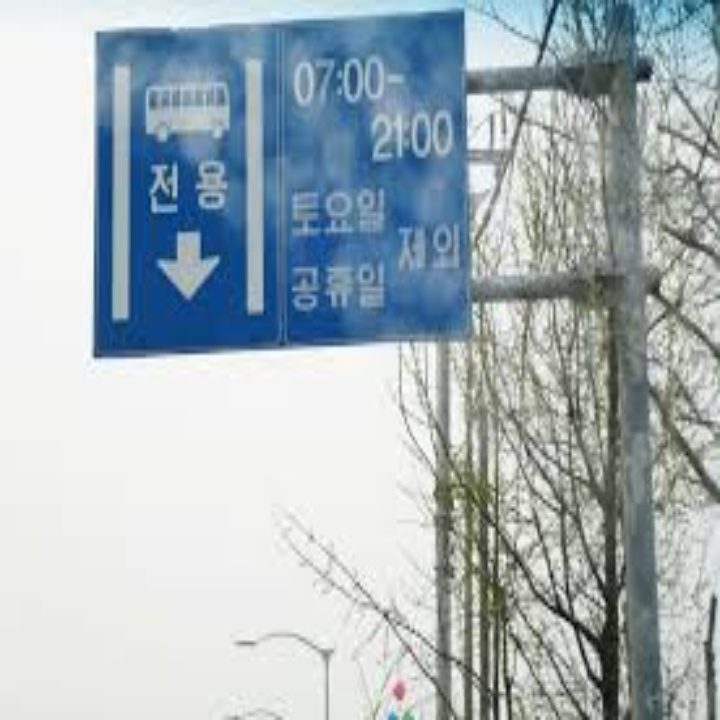bus: (139, 78, 239, 146)
